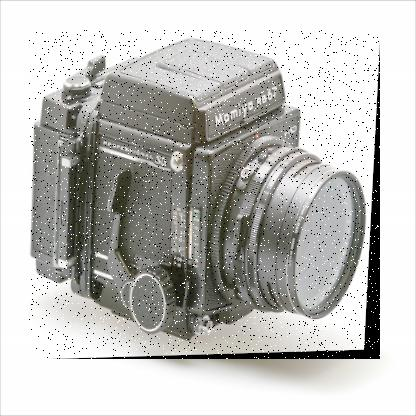Camera: (30, 31, 382, 361)
